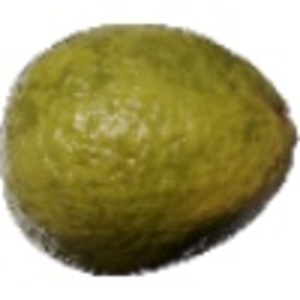goiaba: (5, 18, 296, 276)
